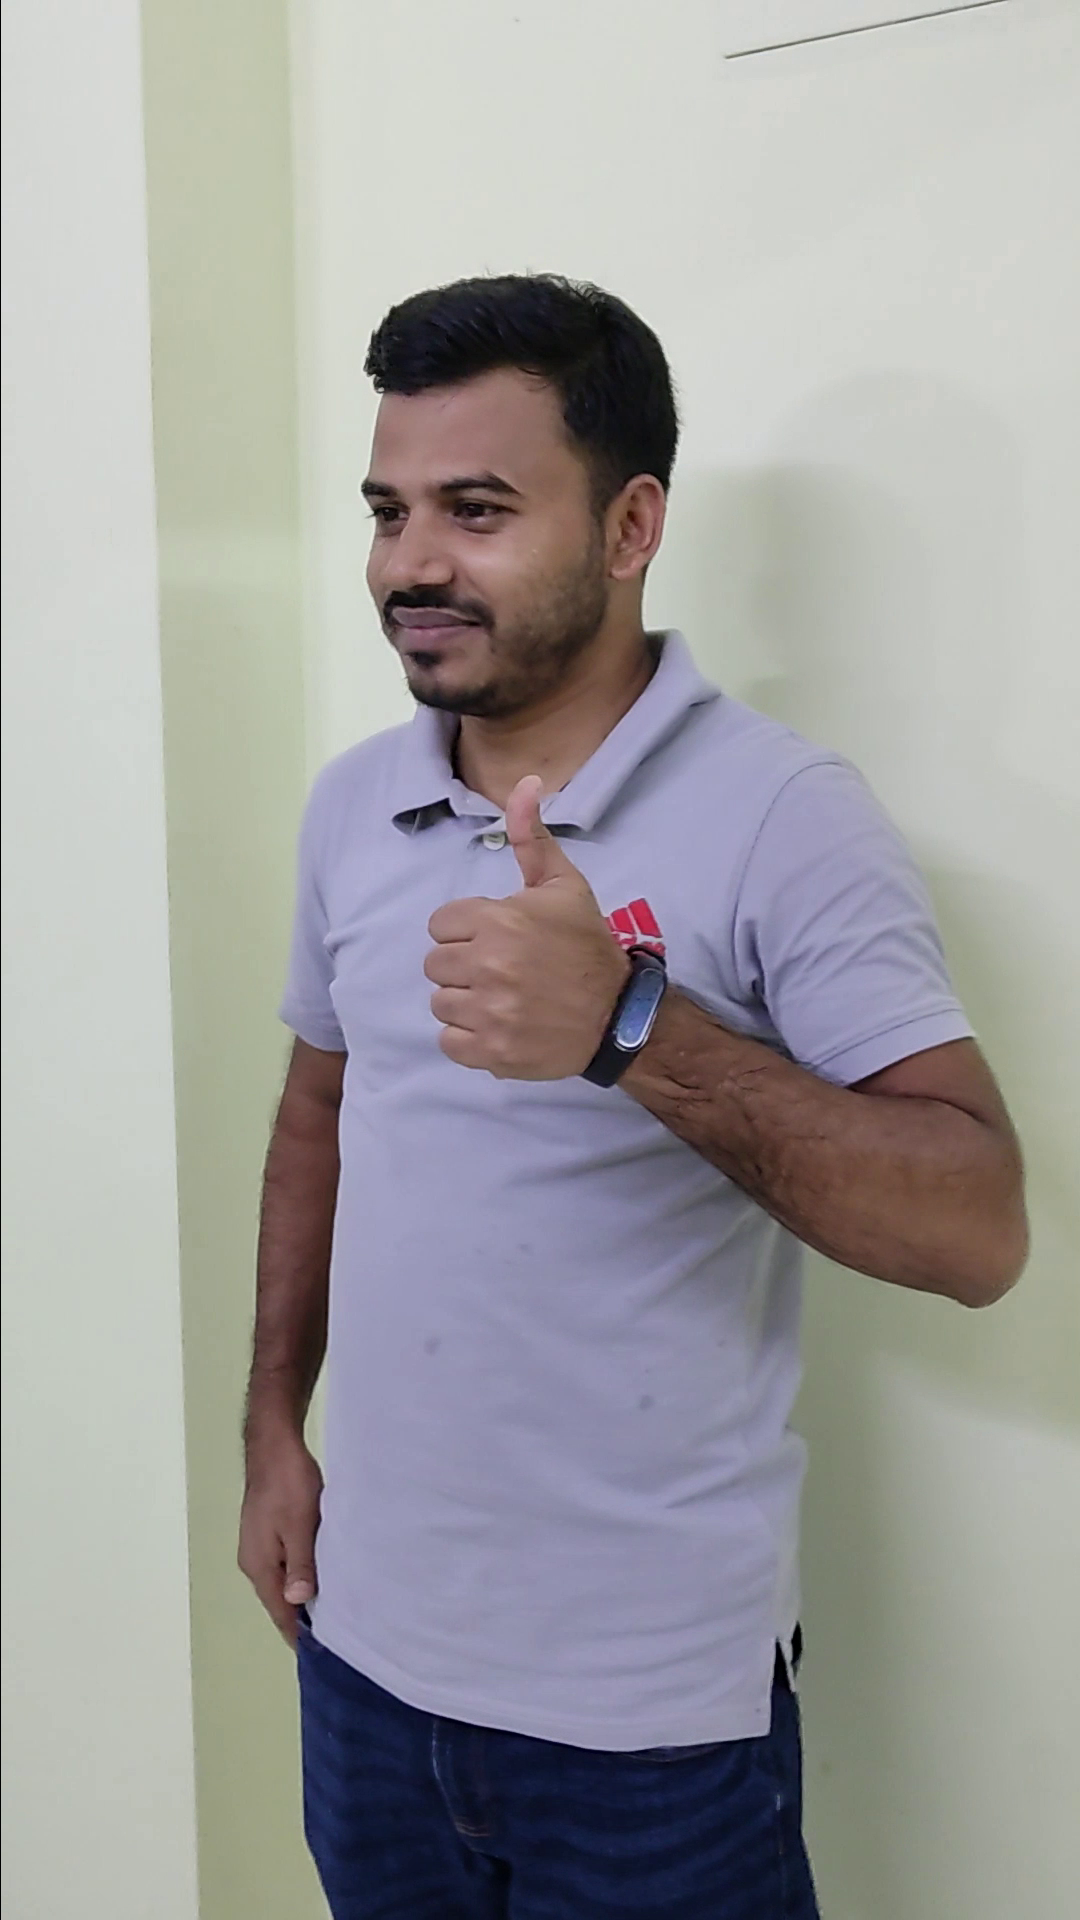Like: (401, 758, 641, 1095)
None: (204, 1374, 352, 1667)
